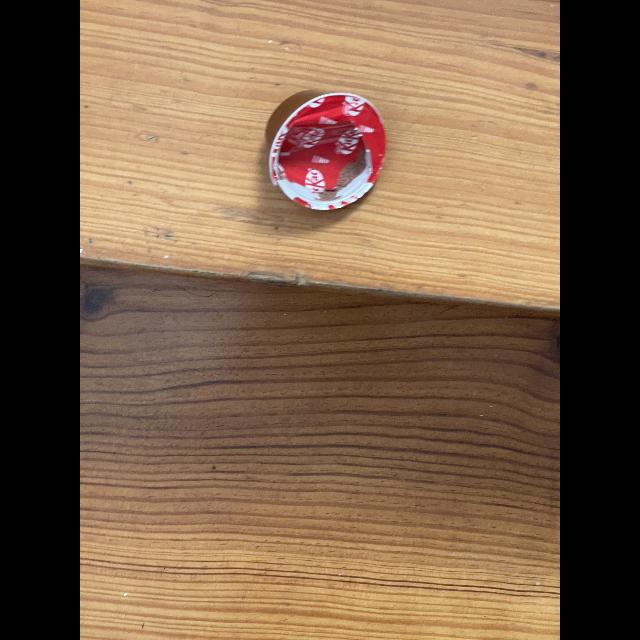damaged_capsule: (264, 86, 400, 222)
